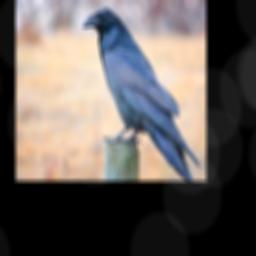Crow: (81, 6, 200, 181)
